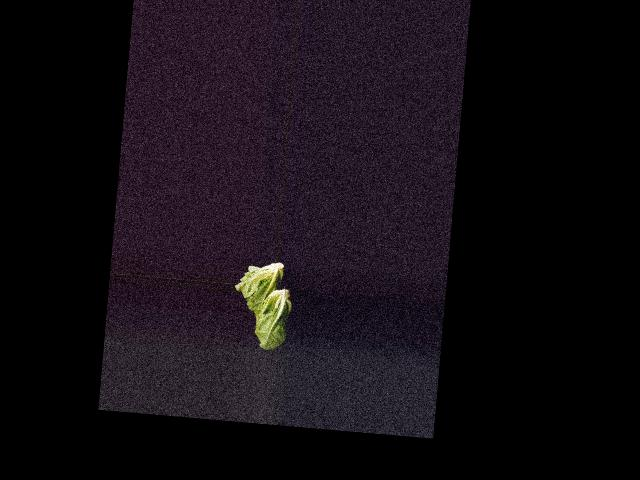lettuce: (232, 259, 291, 324)
